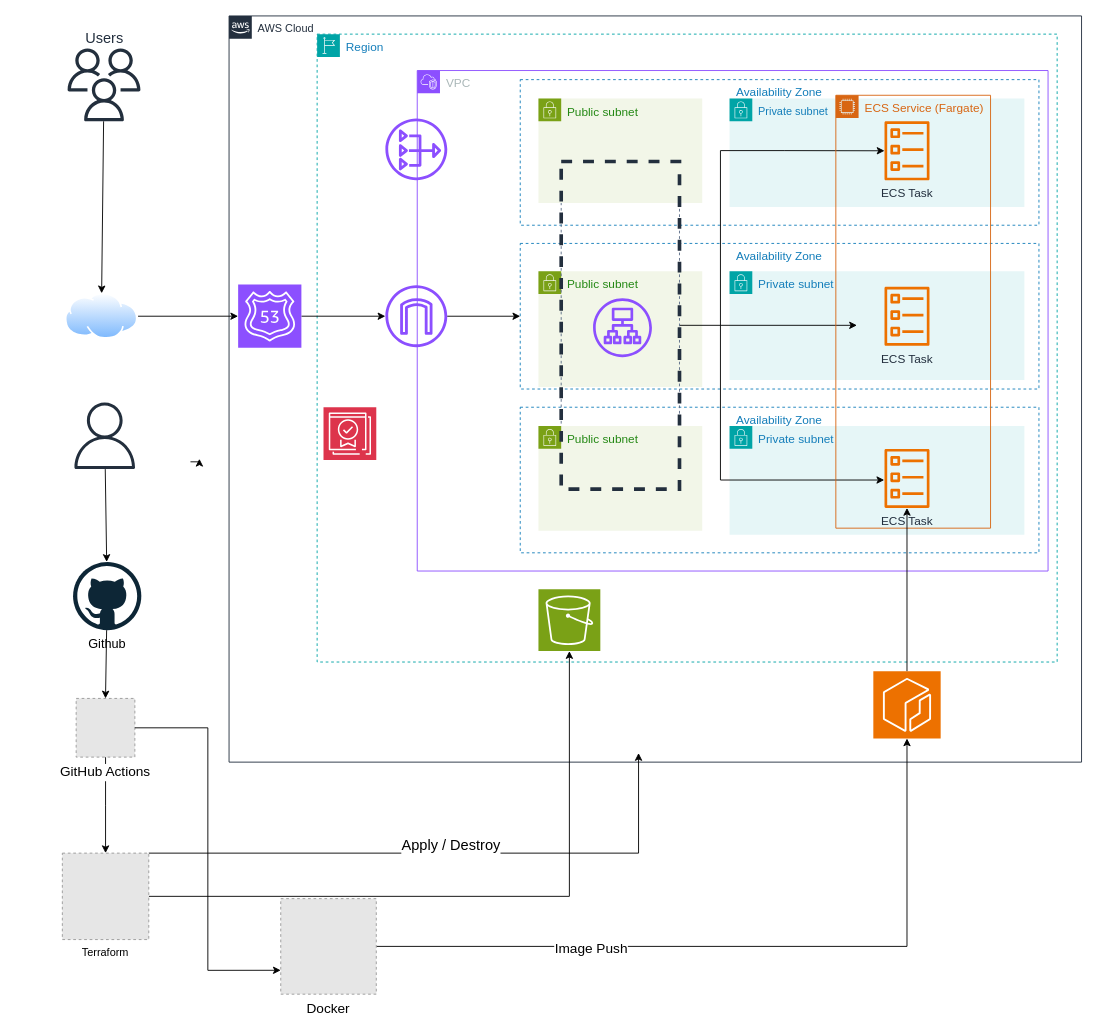
The diagram is 1097 pixels wide and 1032 high, and some of its shapes have lost their labels. Grey dashed boxes stand in for pictures. Here are the shapes that lost their labels. From the top down, the centre of each, then its label:
At [416,149]: "Regional NAT Gateway".
At [101,316]: "HTTPS://tm.yassinsuleiman.com".
At [269,316]: "Domain".
At [416,316]: "IGW".
At [622,327]: "ALB - M ulti-AZ".
At [104,435]: "Developer".
At [349,433]: "SSL/TLS Cert".
At [569,619]: "TFState".
At [906,704]: "ECR".
